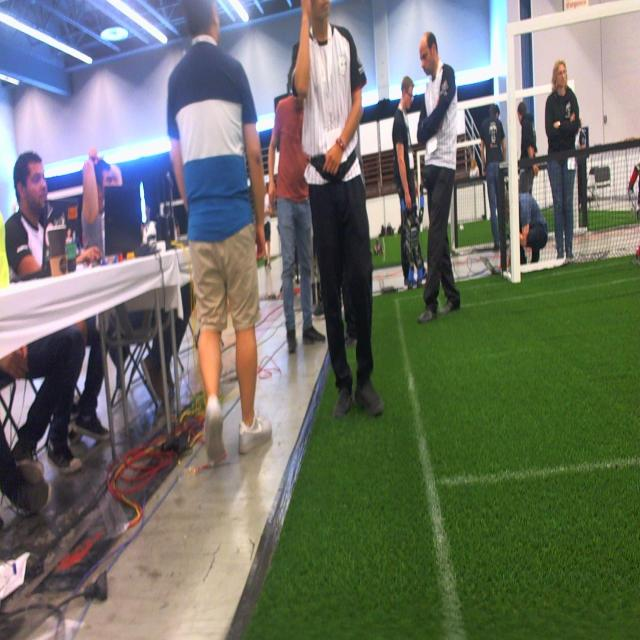goalpost: (508, 18, 522, 282)
